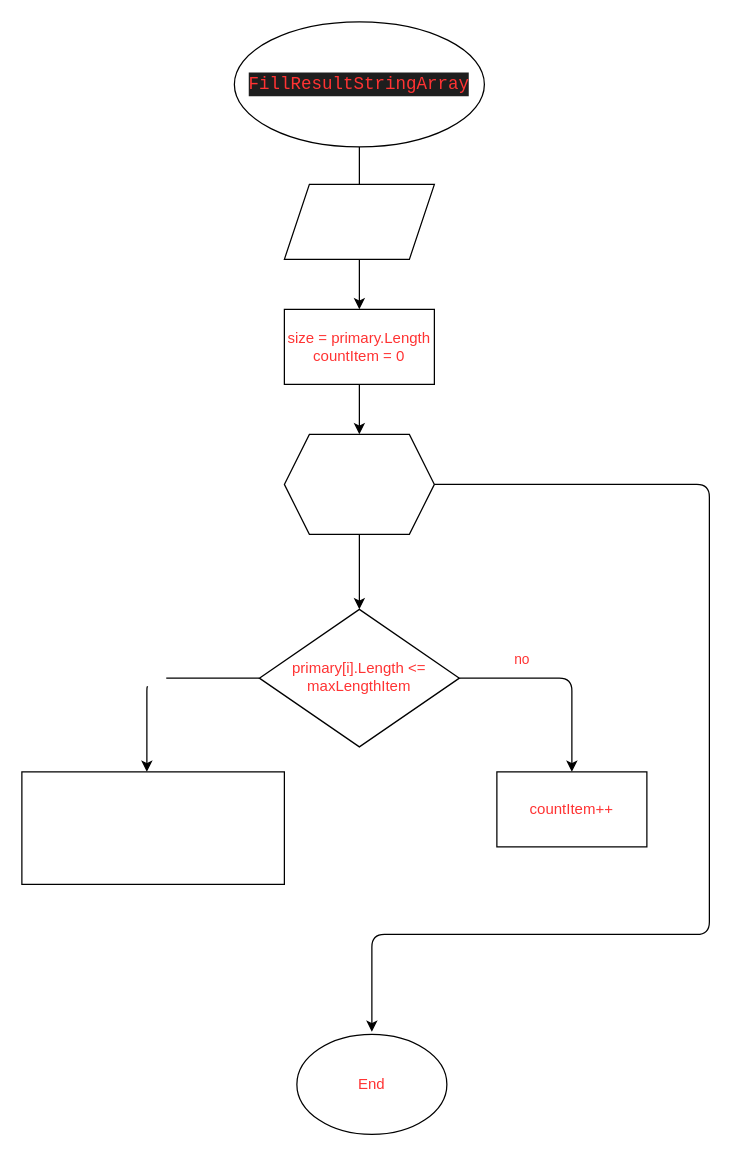
The diagram is 741 pixels wide and 1156 high, and some of its shapes have lost their labels. Each missing label, with the centre of its shape:
"[] primary [] result MaxLengthItem" goes at pixel 358 221.
"i = 0; i <= size; i++" goes at pixel 358 483.
"result[i - countItem] = primary[i]" goes at pixel 152 827.
